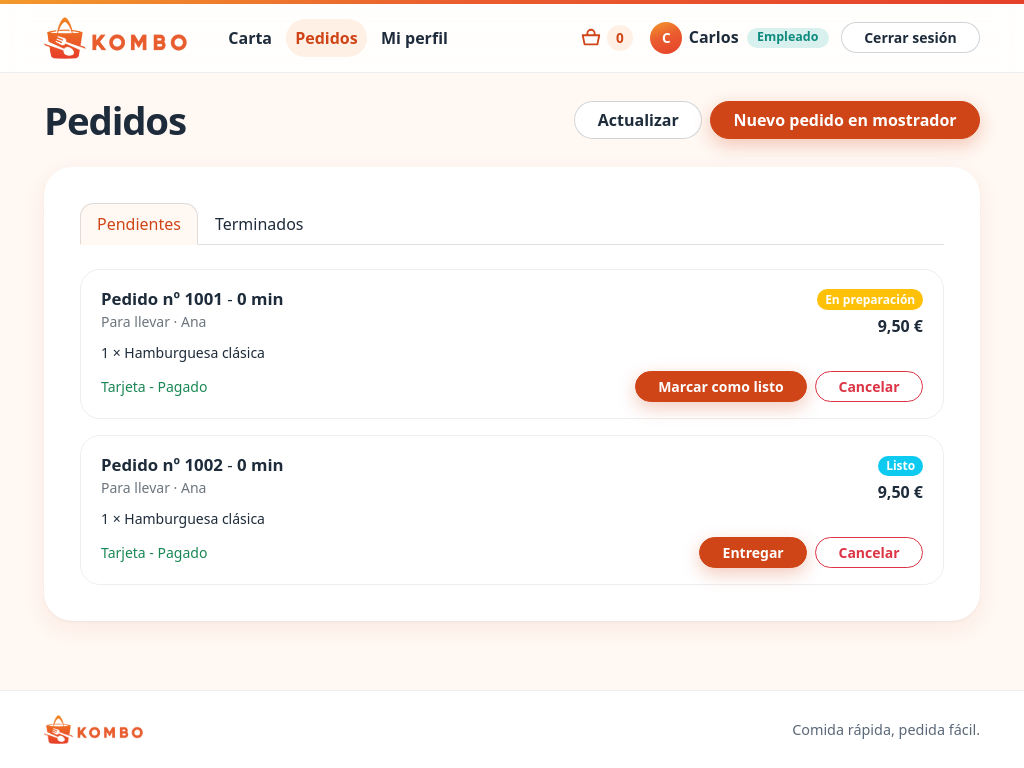
Test: OrdersDashboardPage › shows the pending orders oldest first and the finished ones most recent first
Check: the links read "Pedido nº 1001", "Pedido nº 1002", in this order, box [101,287,223,310]; [101,453,223,476]
Click the tab "Terminados". click: point(259, 224)
box: [198,203,320,245]
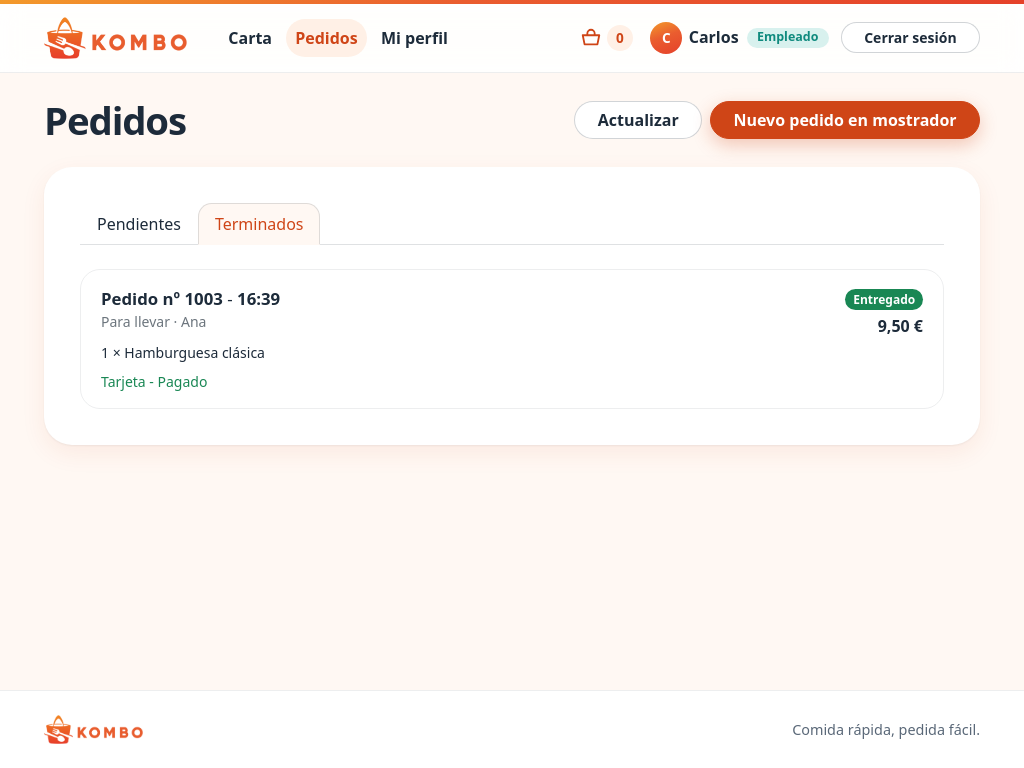
Check: the text "Entregado" is shown, box [845,290,923,310]
Check: the text "16:39" is shown, box [237,287,280,310]
Check: the button "Cancelar" is gone
